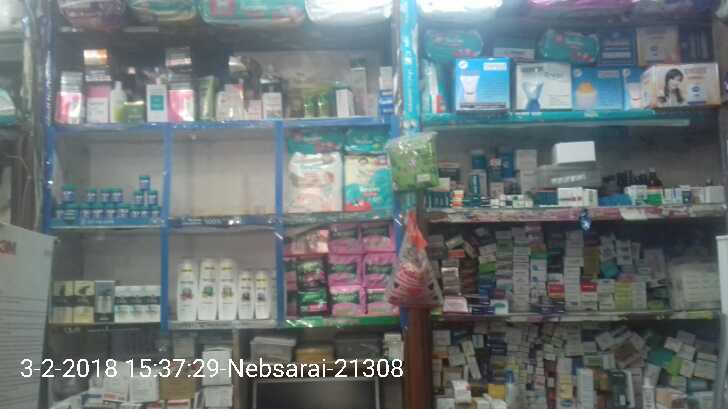vicks: (50, 173, 162, 227)
